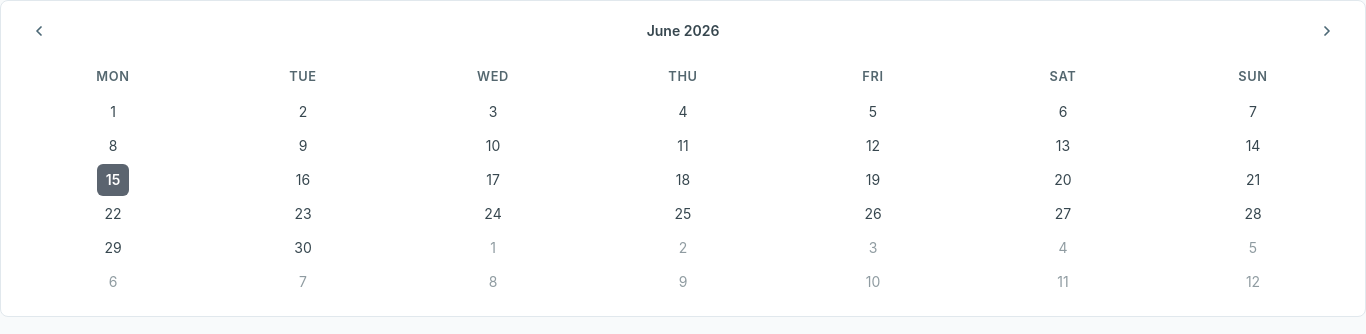
Test: Calendar — selection by click › clicking an out-of-current-month cell navigates to that month
Click the 2nd button "1" at (493, 248), box [477,232,509,264]
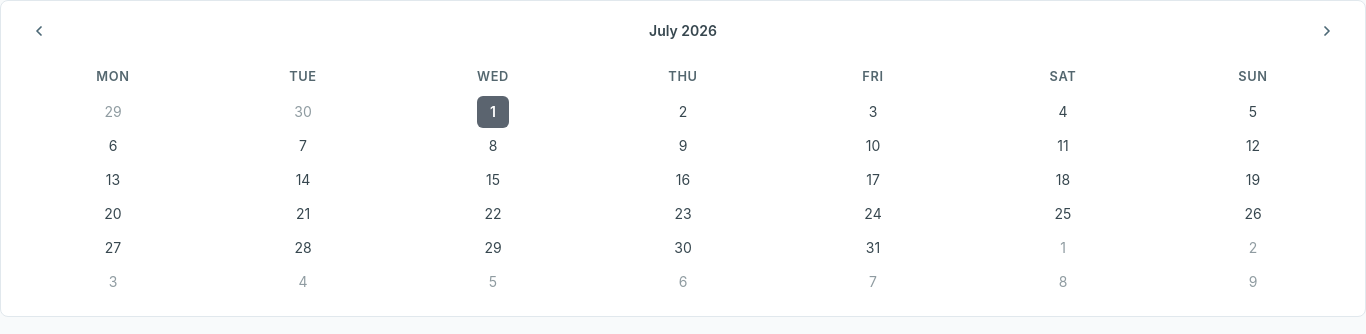
expect the number of buttons named "Previous month" is 2: met, box [25,17,53,45]; [1313,17,1341,45]
expect the text "July 2026" is shown: met, box [649,22,717,39]
